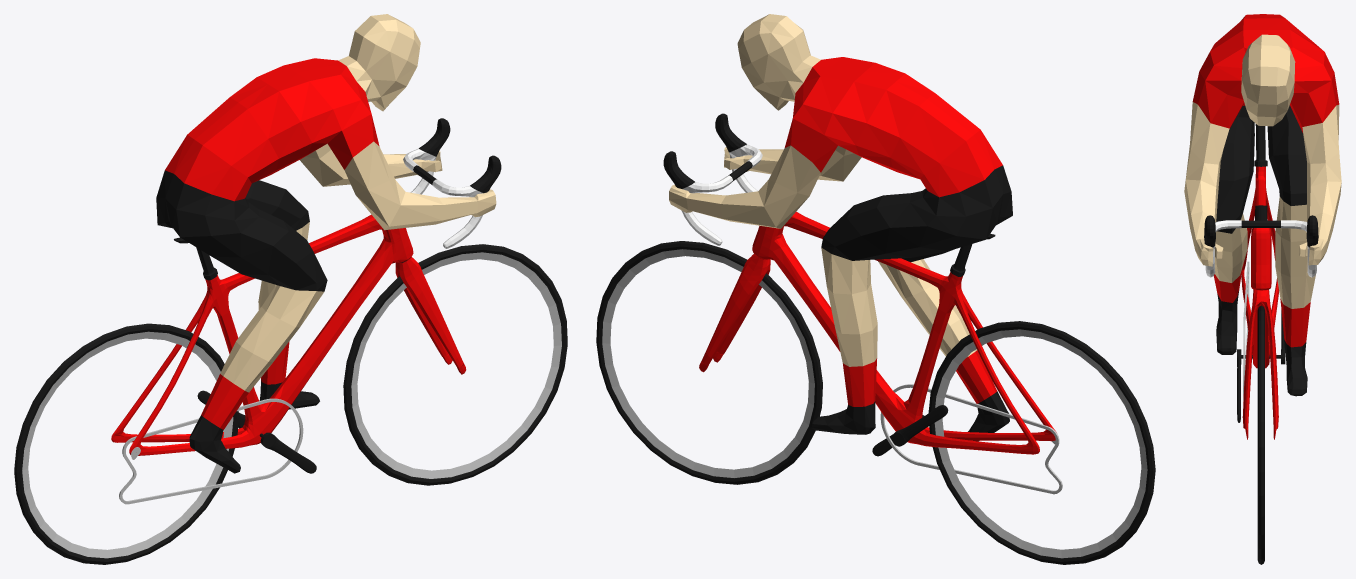
File: cyclist.glb
3 views of the same model, side by side, from view 1: azimuth 30°, elevation 25°; view 2: azimuth 150°, elevation 25°; view 3: azimuth 270°, elevation 25° (orthographic).
Parts seen in each view (by area): view 1: Body, Bike_Frame, Bike_frontTire, Bike_frontRim, Bike_rearTire, Bike_rearRim, Bike_Handle, Bike_Fork, Bike_Chain, Bike_pedalAxis; view 2: Body, Bike_Frame, Bike_rearTire, Bike_frontTire, Bike_frontRim, Bike_rearRim, Bike_Handle, Bike_Fork, Bike_Chain, Bike_pedalAxis; view 3: Body, Bike_Frame, Bike_Fork, Bike_frontTire, Bike_Handle, Bike_pedalAxis, Bike_Chain.
Boxes of the visible parts, bbox=[...] form: Body: bbox=[156, 14, 496, 473]; Bike_Frame: bbox=[111, 214, 413, 455]; Bike_frontTire: bbox=[343, 244, 567, 485]; Bike_frontRim: bbox=[351, 252, 561, 478]; Bike_rearTire: bbox=[14, 323, 239, 564]; Bike_rearRim: bbox=[22, 331, 233, 558]; Bike_Handle: bbox=[403, 118, 501, 248]; Bike_Fork: bbox=[395, 257, 466, 374]; Bike_Chain: bbox=[119, 398, 303, 504]; Bike_pedalAxis: bbox=[197, 390, 316, 473]; Body: bbox=[669, 14, 1012, 441]; Bike_Frame: bbox=[752, 211, 1056, 454]; Bike_rearTire: bbox=[928, 321, 1155, 564]; Bike_frontTire: bbox=[596, 241, 822, 484]; Bike_frontRim: bbox=[602, 249, 814, 477]; Bike_rearRim: bbox=[934, 329, 1147, 558]; Bike_Handle: bbox=[663, 113, 762, 245]; Bike_Fork: bbox=[699, 254, 770, 372]; Bike_Chain: bbox=[880, 384, 1062, 494]; Bike_pedalAxis: bbox=[872, 405, 948, 456]; Body: bbox=[1184, 14, 1341, 396]; Bike_Frame: bbox=[1241, 124, 1278, 368]; Bike_Fork: bbox=[1242, 205, 1278, 439]; Bike_frontTire: bbox=[1257, 305, 1264, 564]; Bike_Handle: bbox=[1204, 215, 1318, 277]; Bike_pedalAxis: bbox=[1237, 310, 1285, 422]; Bike_Chain: bbox=[1243, 261, 1249, 400].
Size of the model in its own units: 2.3 by 1.91 by 0.5657.
